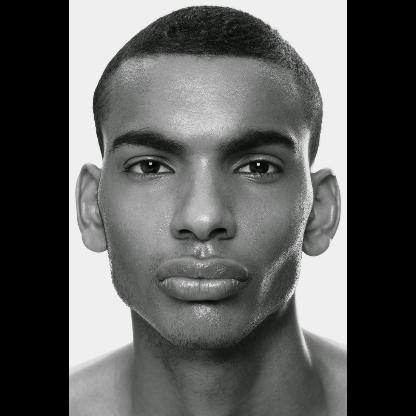Male: (72, 52, 342, 346)
